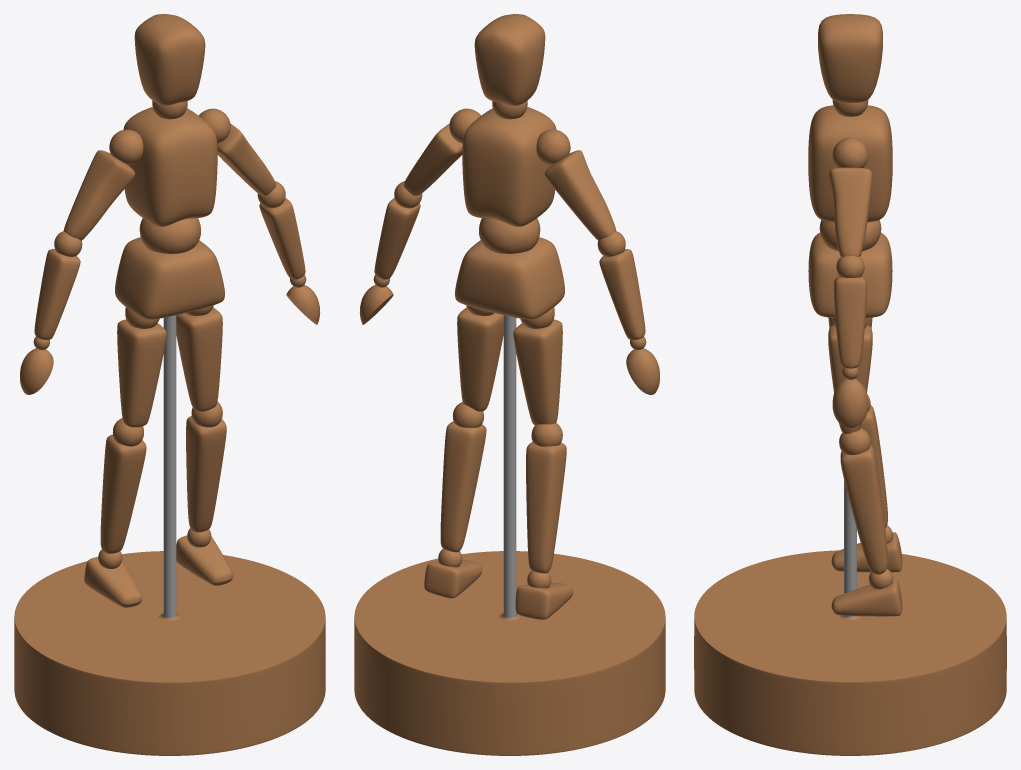
The model's file is mannequin.glb.
3 renders of one model, left to right at view 1: azimuth 30°, elevation 25°; view 2: azimuth 150°, elevation 25°; view 3: azimuth 270°, elevation 25°, orthographic.
Visible parts, largest first — view 1: Icosphere.004; view 2: Icosphere.004; view 3: Icosphere.004.
Part boxes in pixels (x1,y1,x2,y2): Icosphere.004: [14, 14, 325, 755]; Icosphere.004: [354, 14, 665, 755]; Icosphere.004: [694, 14, 1006, 755].
Size of the model in its own units: 2.18 by 4.71 by 1.99.
